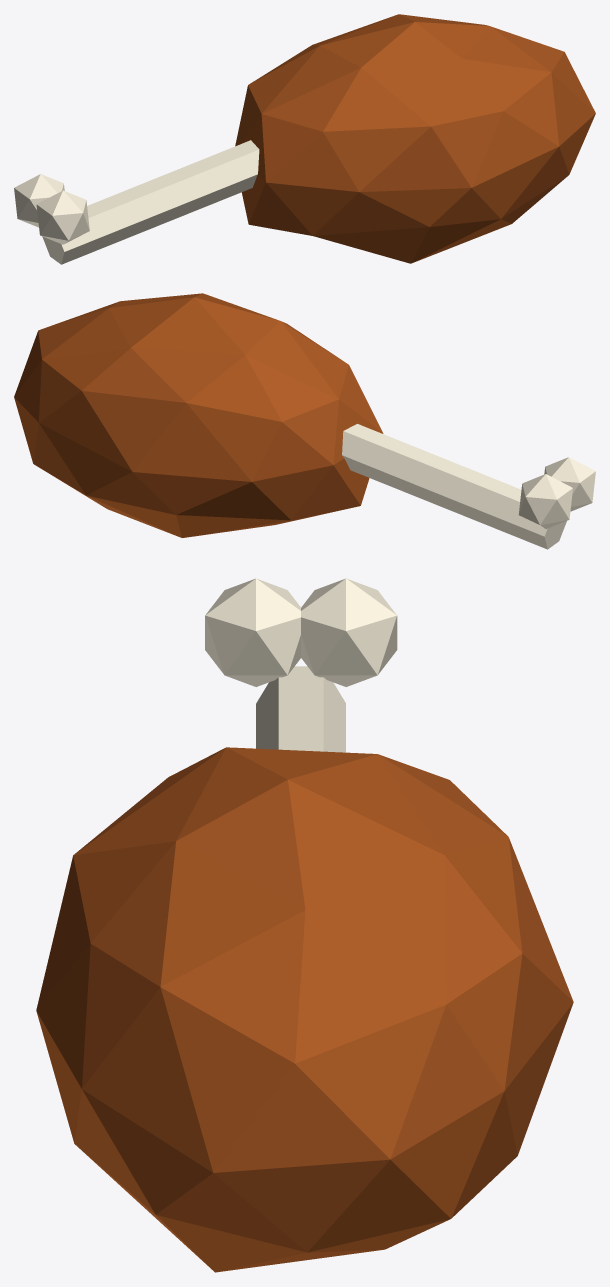
Rendered from drumstick.glb.
3 renders of one model, top to bottom at view 1: azimuth 30°, elevation 25°; view 2: azimuth 150°, elevation 25°; view 3: azimuth 270°, elevation 25°, orthographic. The views are drawn at different scales.
Visible parts, largest first — view 1: drumstick; view 2: drumstick; view 3: drumstick.
Part boxes in pixels (x1,y1,x2,y2): drumstick: (14,14,595,264); drumstick: (14,293,595,549); drumstick: (36,578,573,1272).
Bounding box in the file's own units: 0.1679 × 0.0635 × 0.0717.
